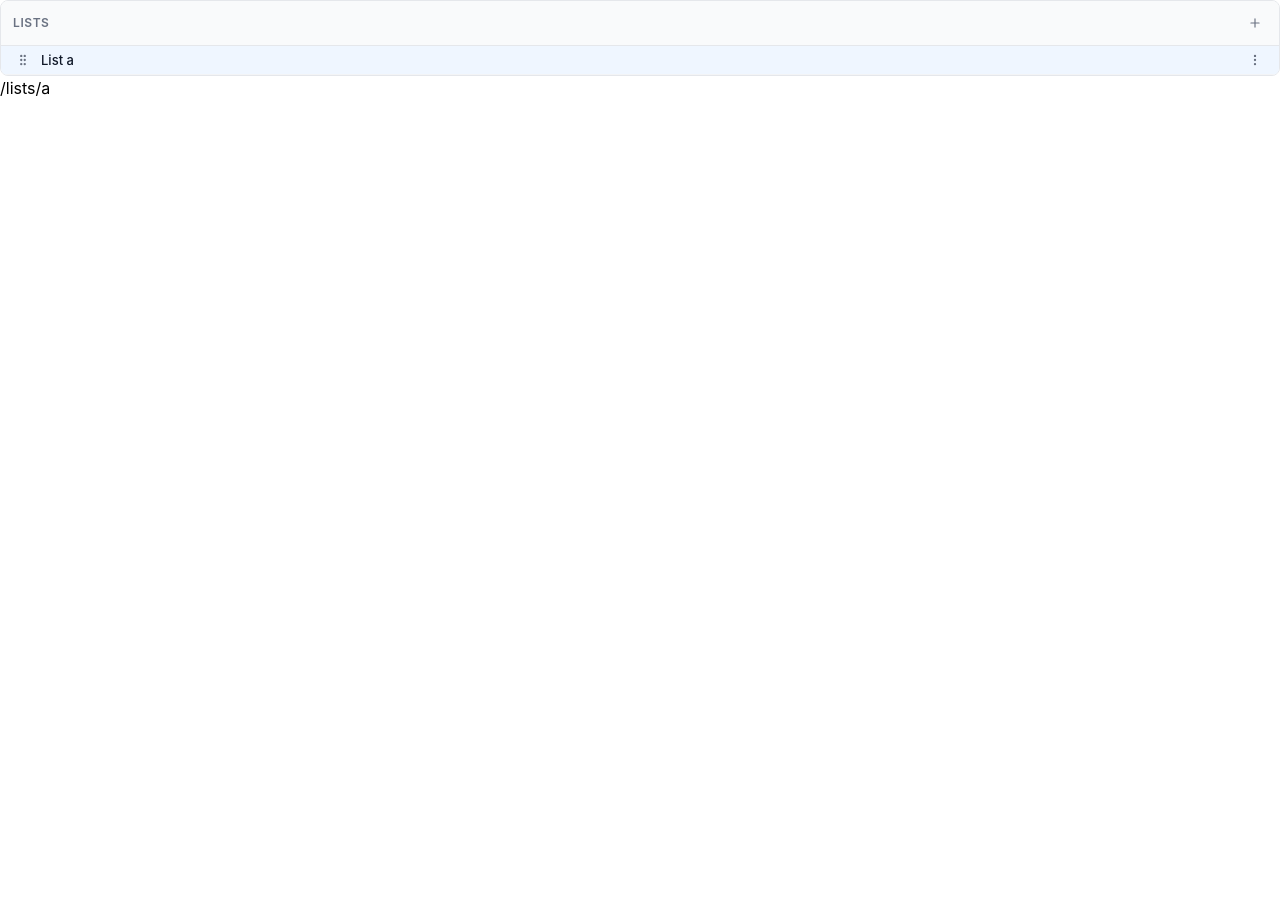
Test case: DesktopListsPanel delete navigation › falls back to /lists when the open list was the only one
Click the button named "List options" at [1255, 60], box x1=1243 y1=46 x2=1267 y2=74
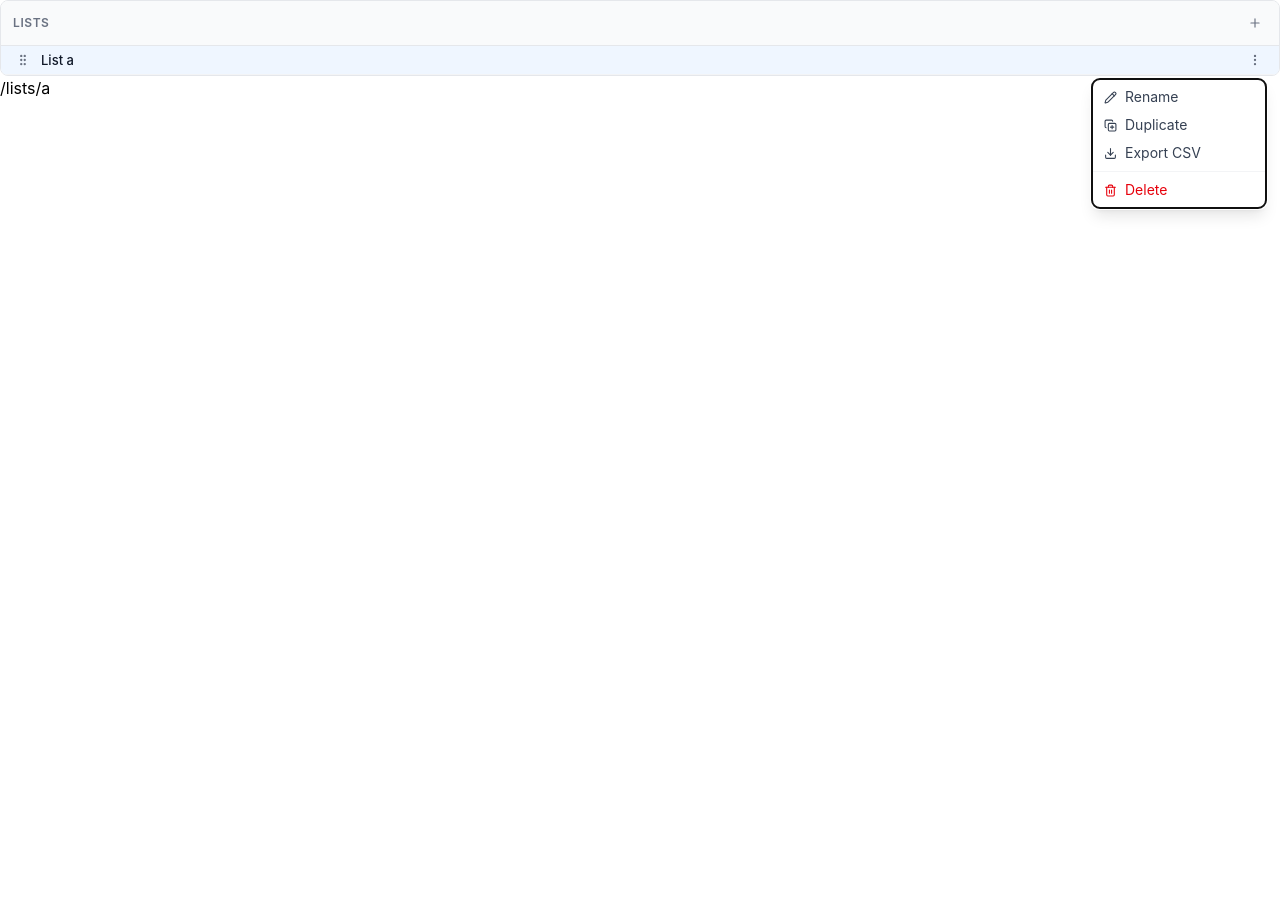
Click the button "Delete" at [1179, 190], box x1=1092 y1=176 x2=1266 y2=204
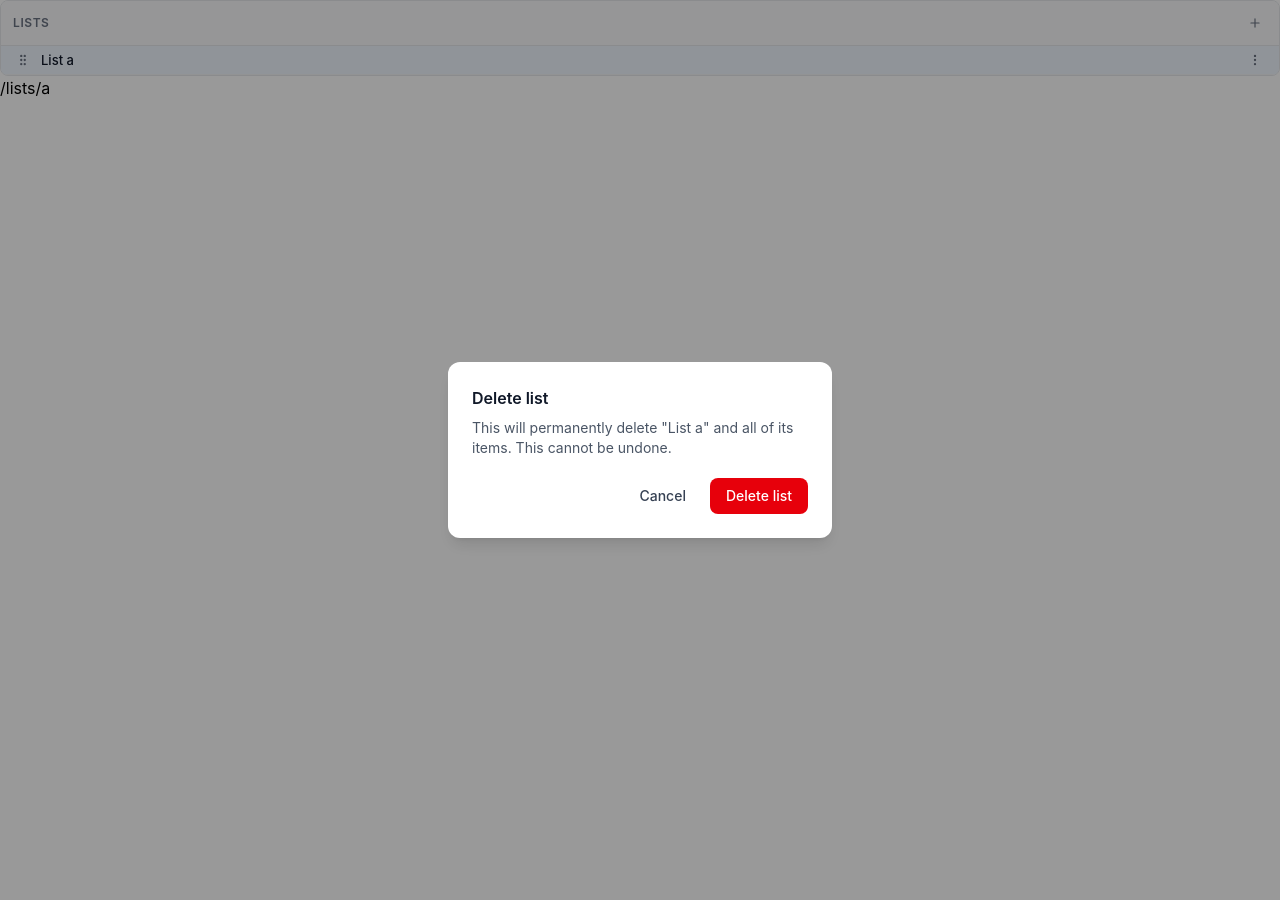
Click the button "Delete list" at [759, 496], box x1=710 y1=478 x2=808 y2=514
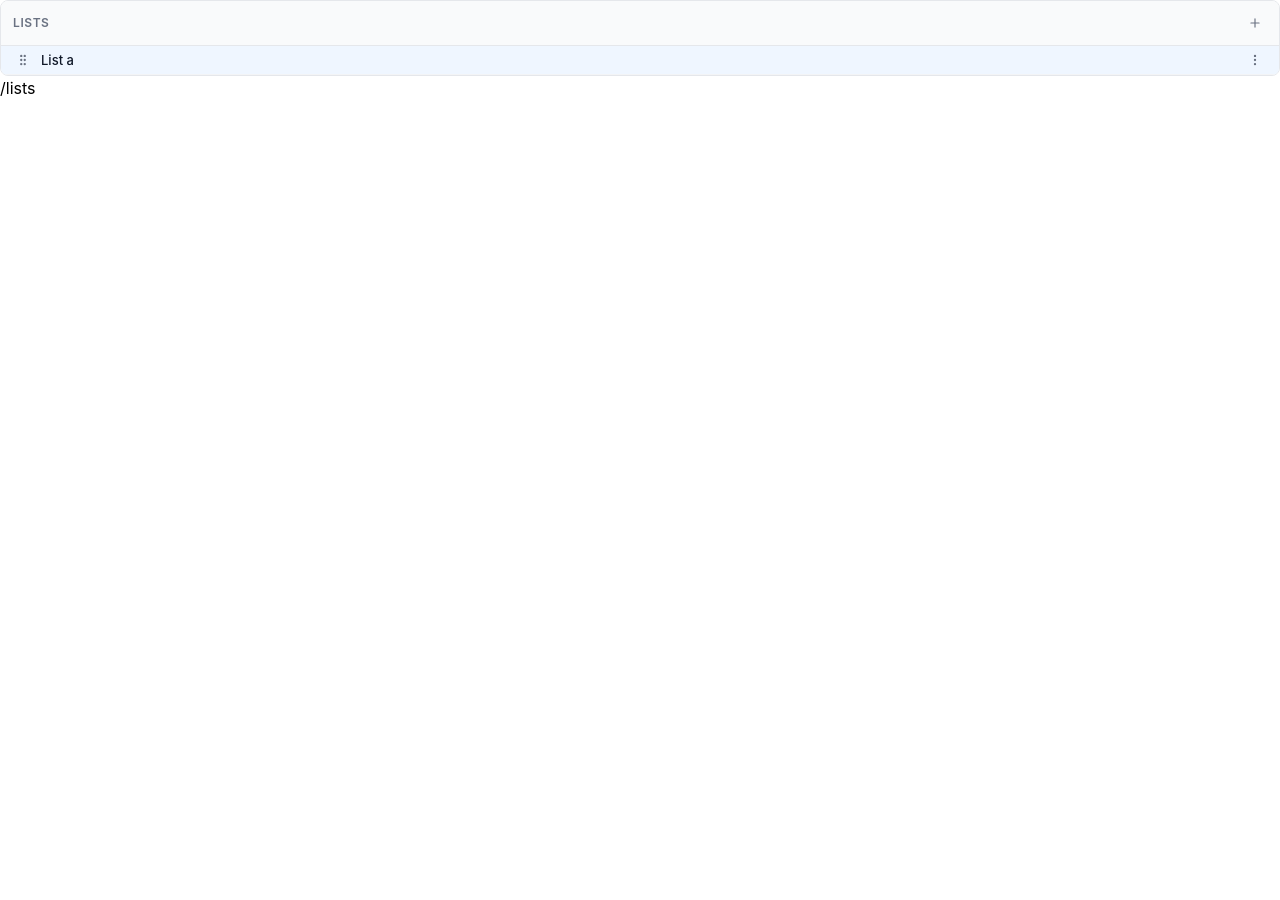
Now the text with test id "location" reads "/lists", box x1=0 y1=78 x2=36 y2=98
